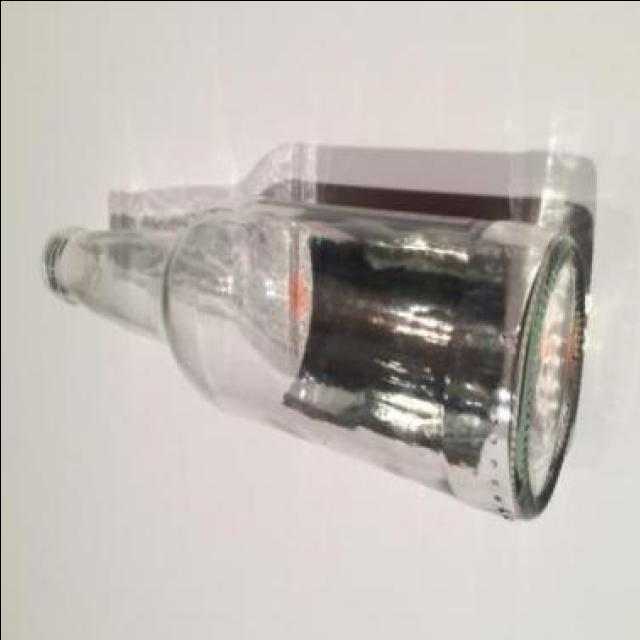kaca: (37, 200, 584, 514)
